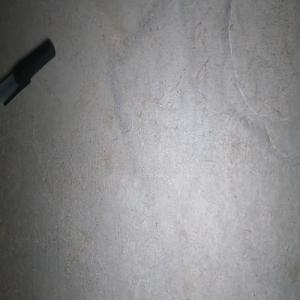Pen: (0, 39, 55, 106)
